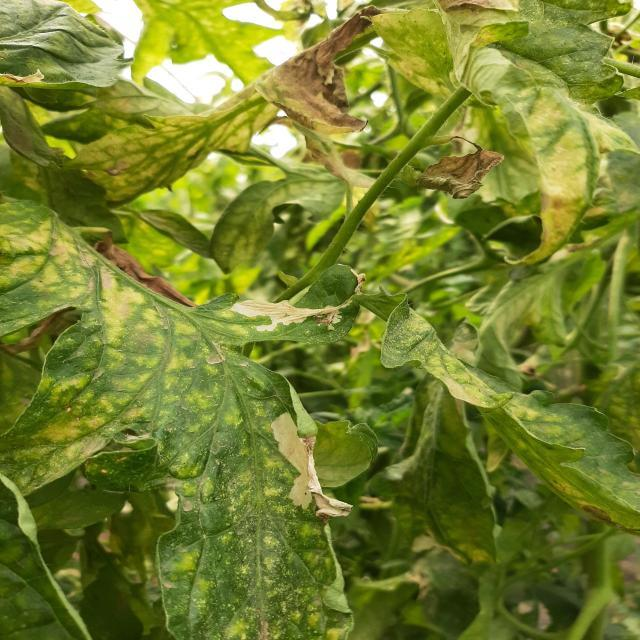Tuta absoluta: (268, 409, 326, 512), (231, 299, 351, 332)
